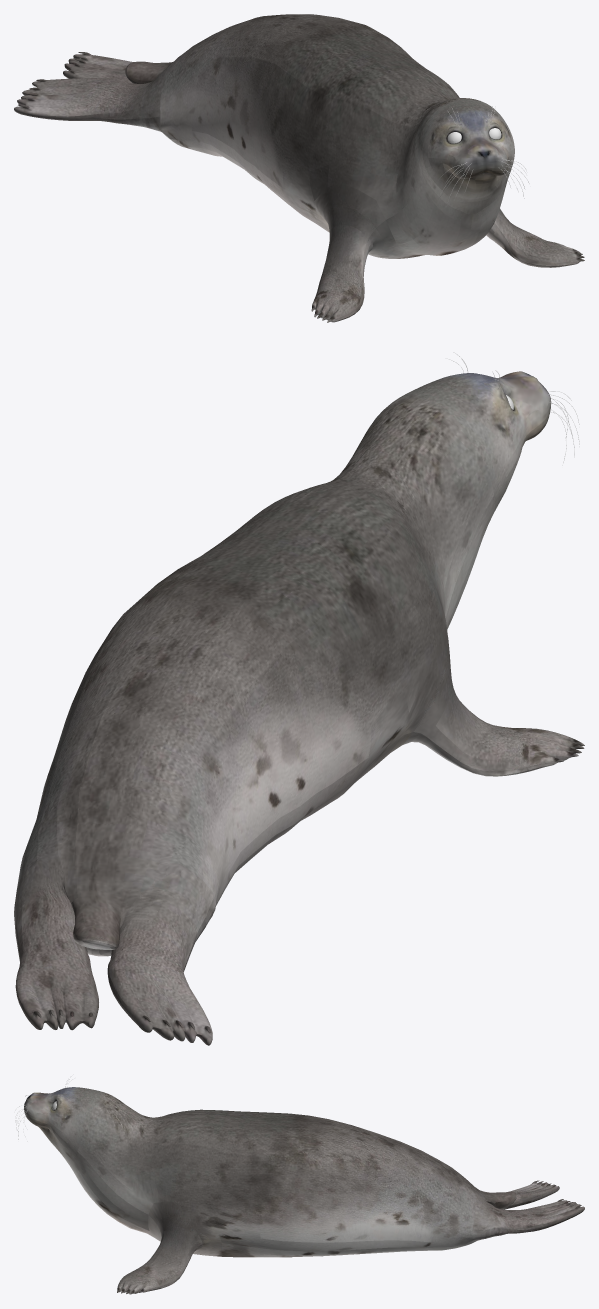
File: seal_02.fbx
3 views of the same model, one above another, from view 1: azimuth 30°, elevation 25°; view 2: azimuth 150°, elevation 25°; view 3: azimuth 270°, elevation 25° (orthographic). The views are drawn at different scales.
Parts seen in each view (by area): view 1: Seal_3; view 2: Seal_3; view 3: Seal_3.
Boxes of the visible parts, x1,y1,x2,y2 form: Seal_3: (14, 14, 584, 322); Seal_3: (14, 371, 584, 1045); Seal_3: (24, 1087, 584, 1294).
Size of the model in its own units: 74.77 by 54.8 by 174.
